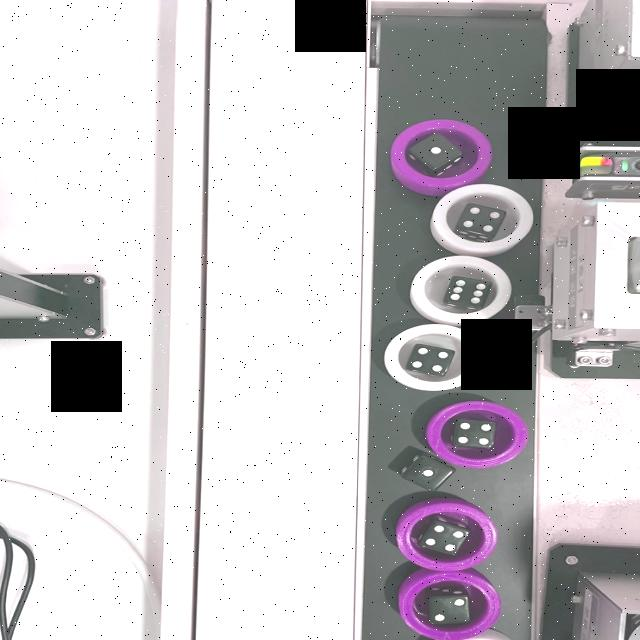DICE1: (408, 459, 457, 489), (416, 138, 458, 166)
DICE2: (427, 595, 469, 623)
DICE4: (418, 524, 461, 552), (462, 206, 504, 234), (456, 418, 498, 446), (412, 346, 451, 373)
DICE6: (446, 276, 491, 308)
RedChip: (391, 119, 491, 189), (396, 502, 495, 571), (402, 574, 502, 638), (425, 403, 526, 466)
WhiteChip: (411, 256, 514, 326), (431, 186, 537, 254), (383, 324, 489, 389)
